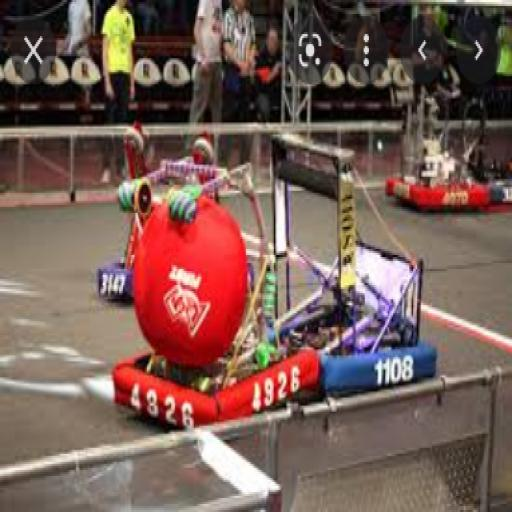robot: (114, 154, 320, 416), (269, 237, 440, 397), (96, 137, 256, 301)
